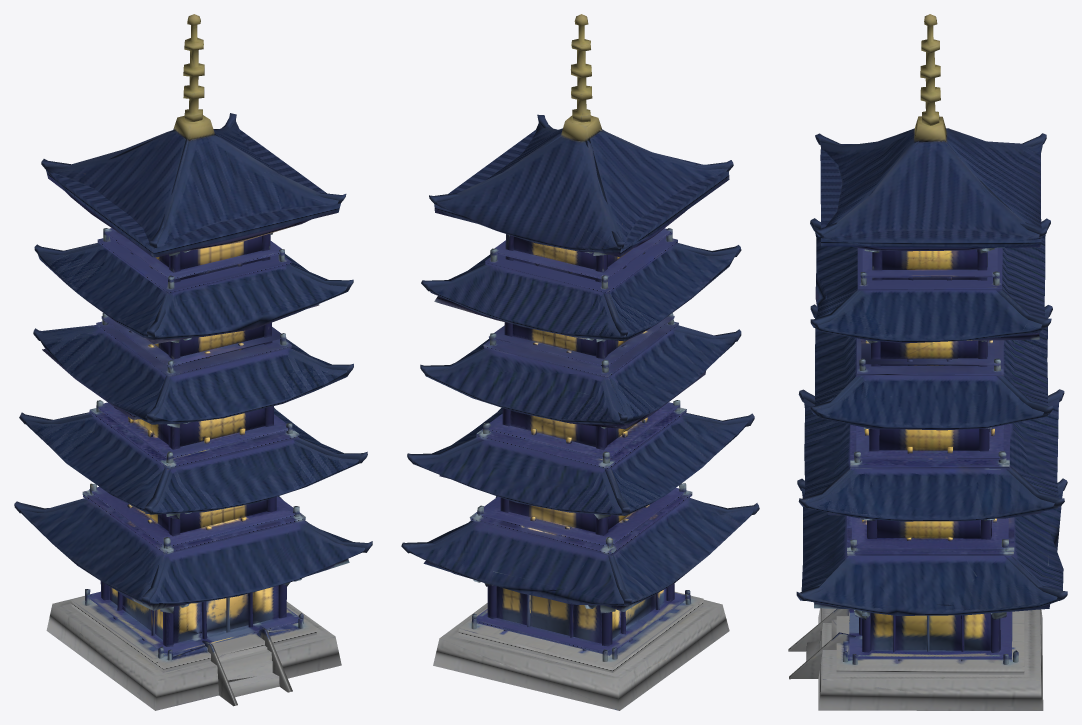
Rendered from hero_landmark.glb.
The picture shows the model from 3 angles, left to right: view 1: azimuth 30°, elevation 25°; view 2: azimuth 150°, elevation 25°; view 3: azimuth 270°, elevation 25°; orthographic projection. The views are drawn at different scales.
Bounding box in the file's own units: 0.3809 × 1 × 0.3896.
Materials: 1 (1 with a texture image).
